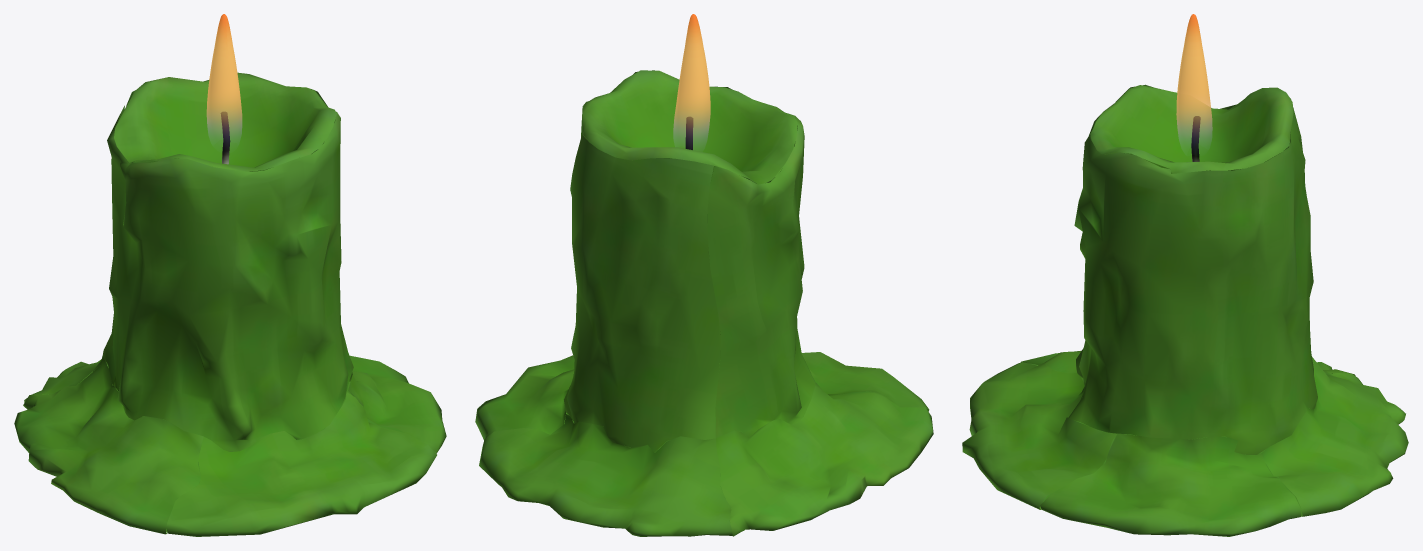
Rendered from EcclesiasticalShort.glb.
3 views of the same model, side by side, from view 1: azimuth 30°, elevation 25°; view 2: azimuth 150°, elevation 25°; view 3: azimuth 270°, elevation 25° (orthographic). The views are drawn at different scales.
Visible parts, largest first — view 1: XBase, Flame; view 2: XBase, Flame; view 3: XBase, Flame.
Boxes of the visible parts, x1,y1,x2,y2 form: XBase: (14, 72, 446, 536); Flame: (206, 14, 242, 141); XBase: (475, 70, 933, 536); Flame: (673, 14, 710, 146); XBase: (962, 84, 1408, 536); Flame: (1176, 14, 1212, 146).
Bounding box in the file's own units: 1.54 × 1.67 × 1.57.
Materials: 2 (2 with a texture image).
